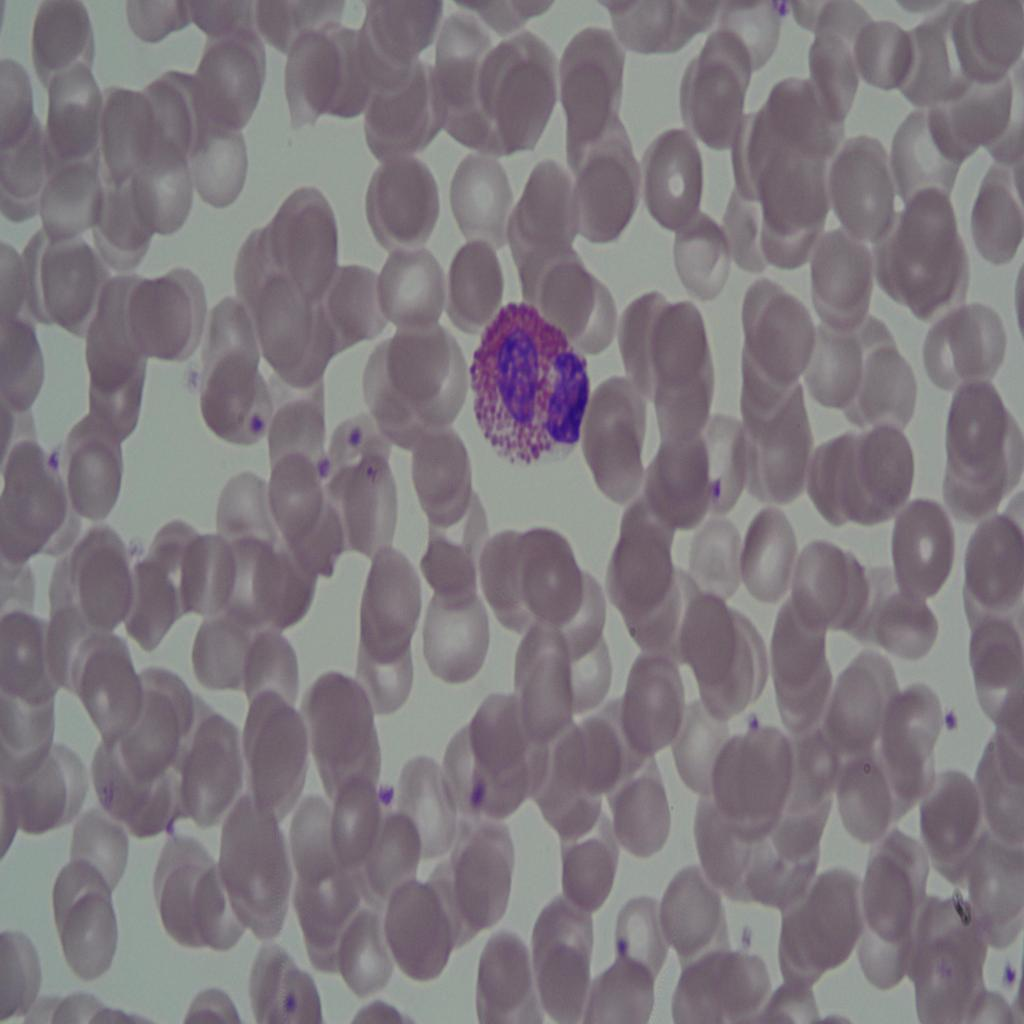Eosinofil: (458, 294, 586, 474)
Platelet: (455, 763, 503, 816), (42, 426, 78, 486), (345, 420, 379, 470), (376, 769, 405, 823), (605, 926, 637, 968), (735, 918, 761, 966), (933, 702, 960, 738), (739, 698, 762, 738), (247, 406, 274, 439), (313, 452, 339, 482), (707, 464, 726, 498)
